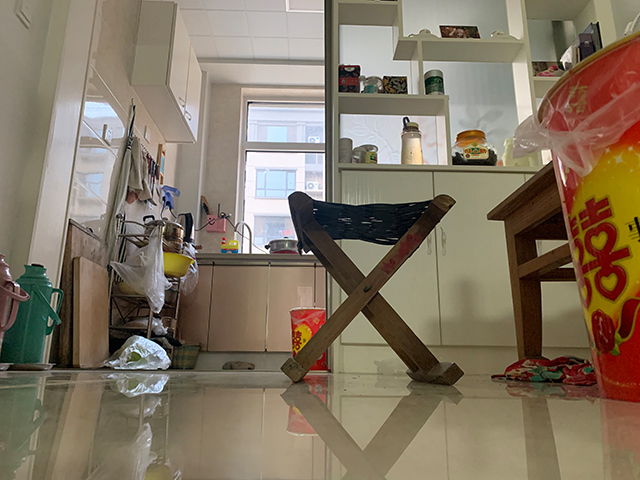cabinet: (324, 164, 522, 377), (180, 252, 328, 370)
stool: (281, 190, 464, 386)
table: (485, 157, 575, 361)
trashcan: (536, 29, 640, 404), (288, 306, 327, 371)
